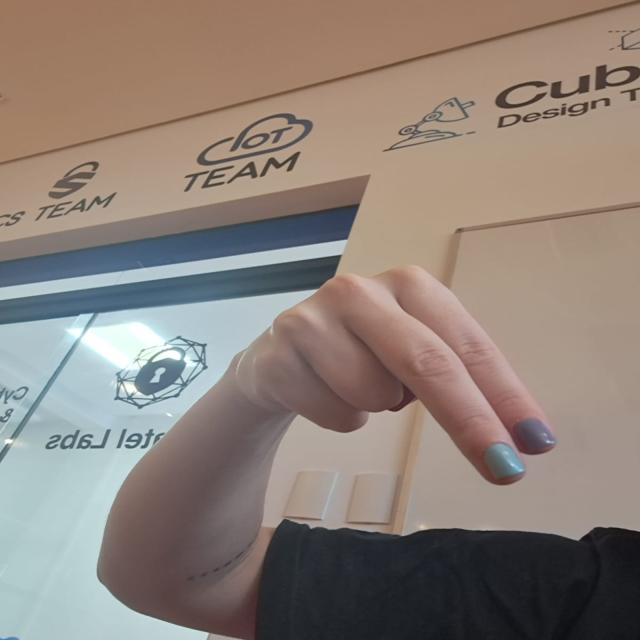N: (237, 242, 571, 496)
